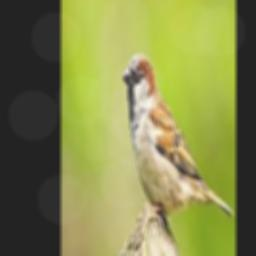Sparrow: (122, 52, 234, 232)
